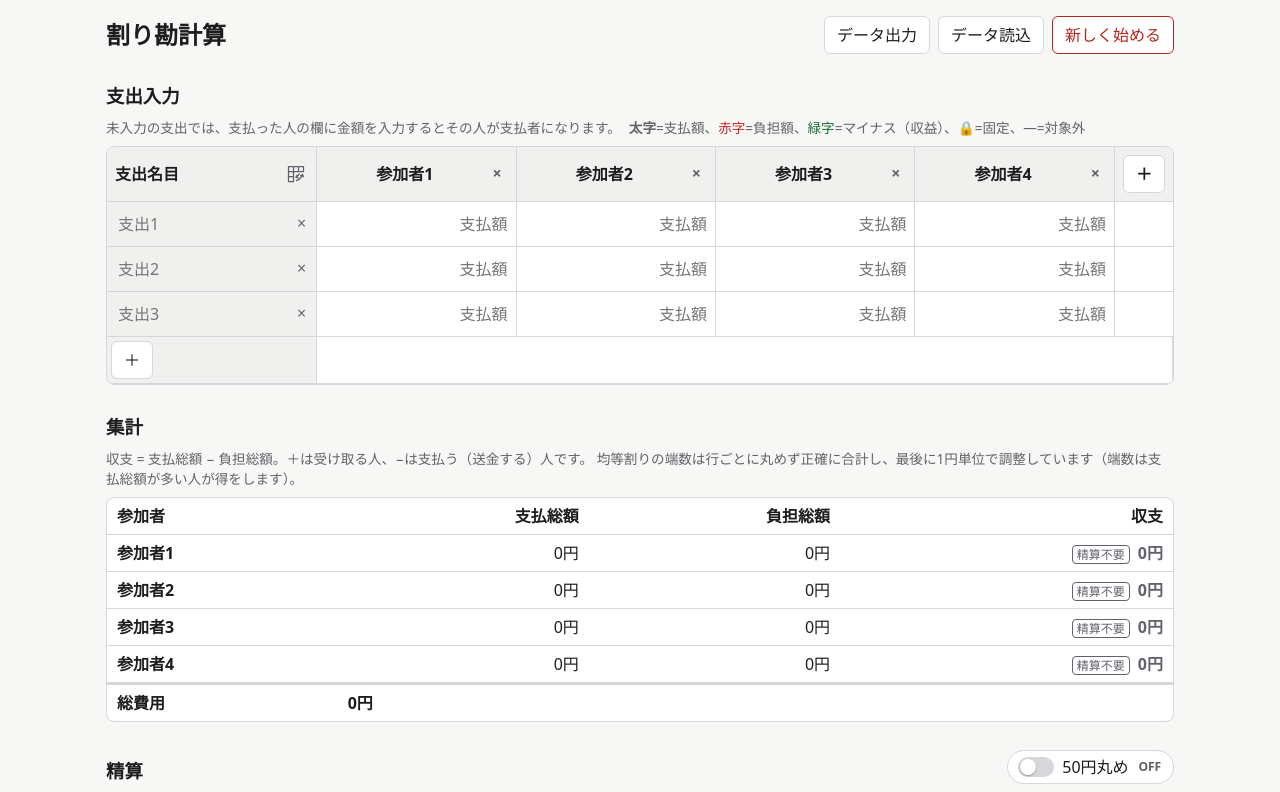
Test: App › 参加者追加（既定は既存支出を対象外）と支払者の削除拒否
Type "4000" into the 1st field with placeholder "支払額" at (416, 224), box [317,202,516,246]
Then press Enter
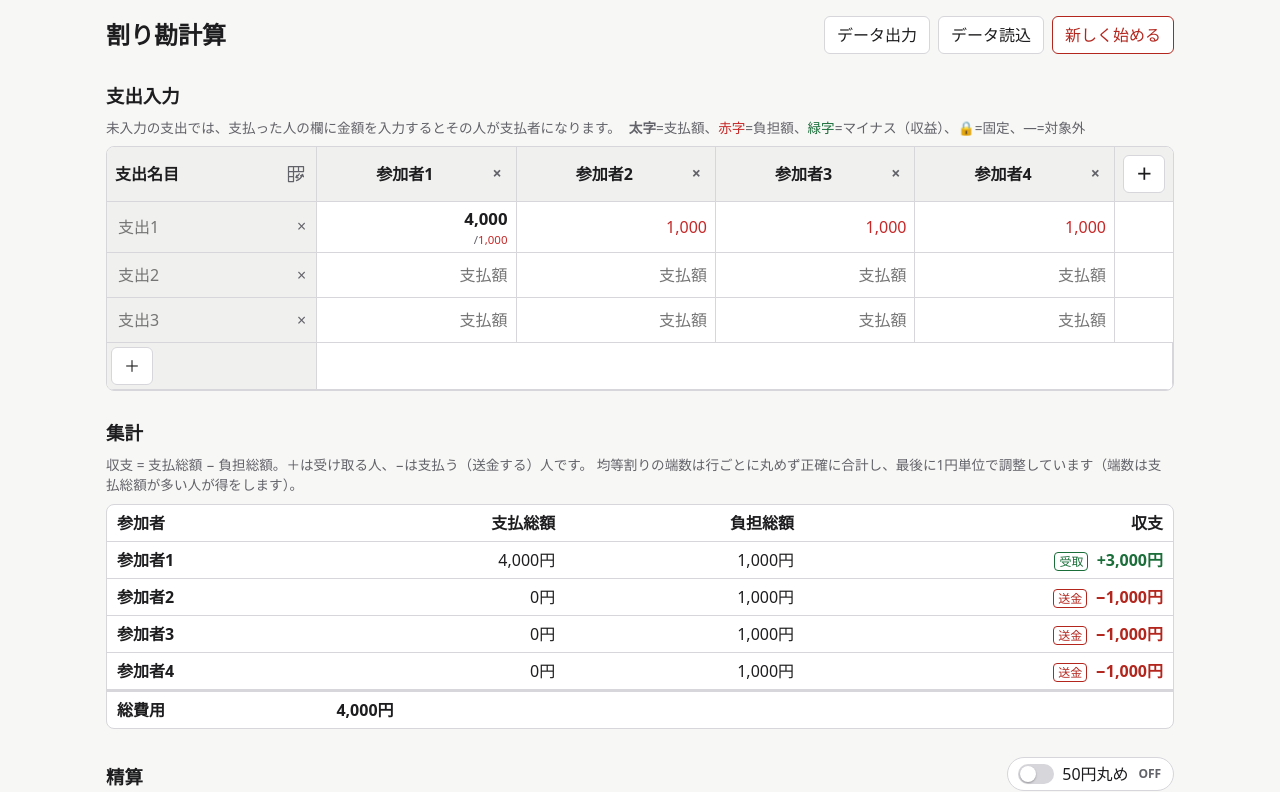
Click the button named "参加者を追加" at (1144, 174), box [1123,155,1165,193]
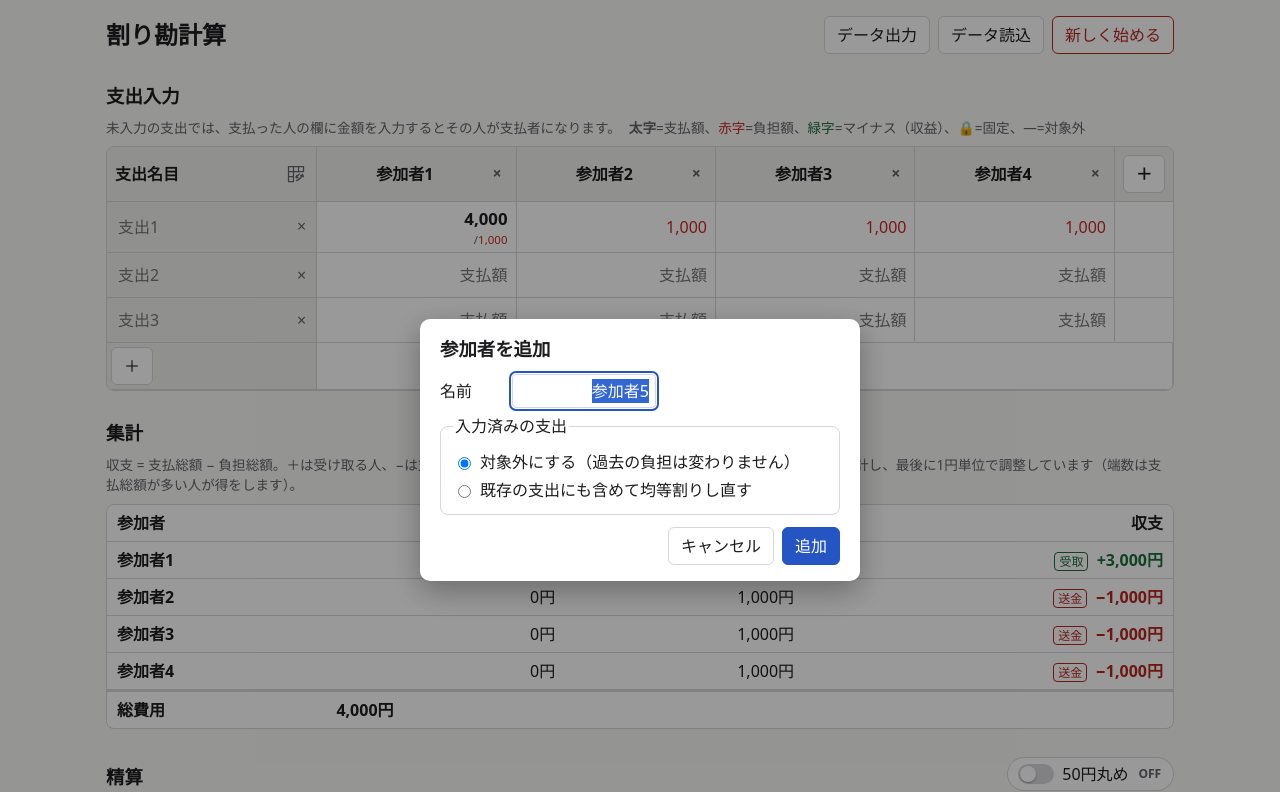
Click the button "追加" at (811, 546), box [782,527,840,565]
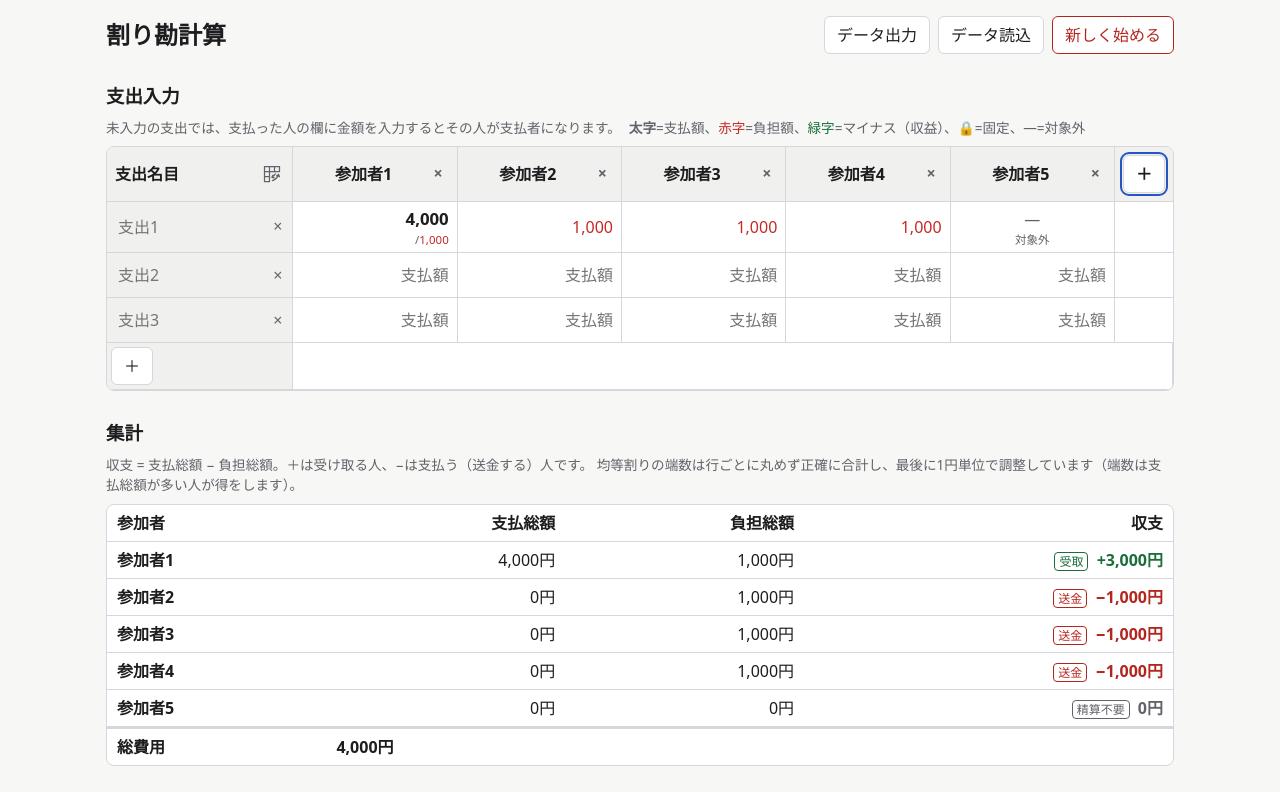
Now the number of fields named "参加者1の名前" is 5, box [301,157,426,191]; [466,157,590,191]; [630,157,754,191]; [794,157,918,191]; [959,157,1083,191]
Now the button with aria-label "支出1 の 参加者5：対象外" is shown, box [951,203,1114,252]
Click the button named "参加者1 を削除" at (438, 174), box [428,161,449,187]
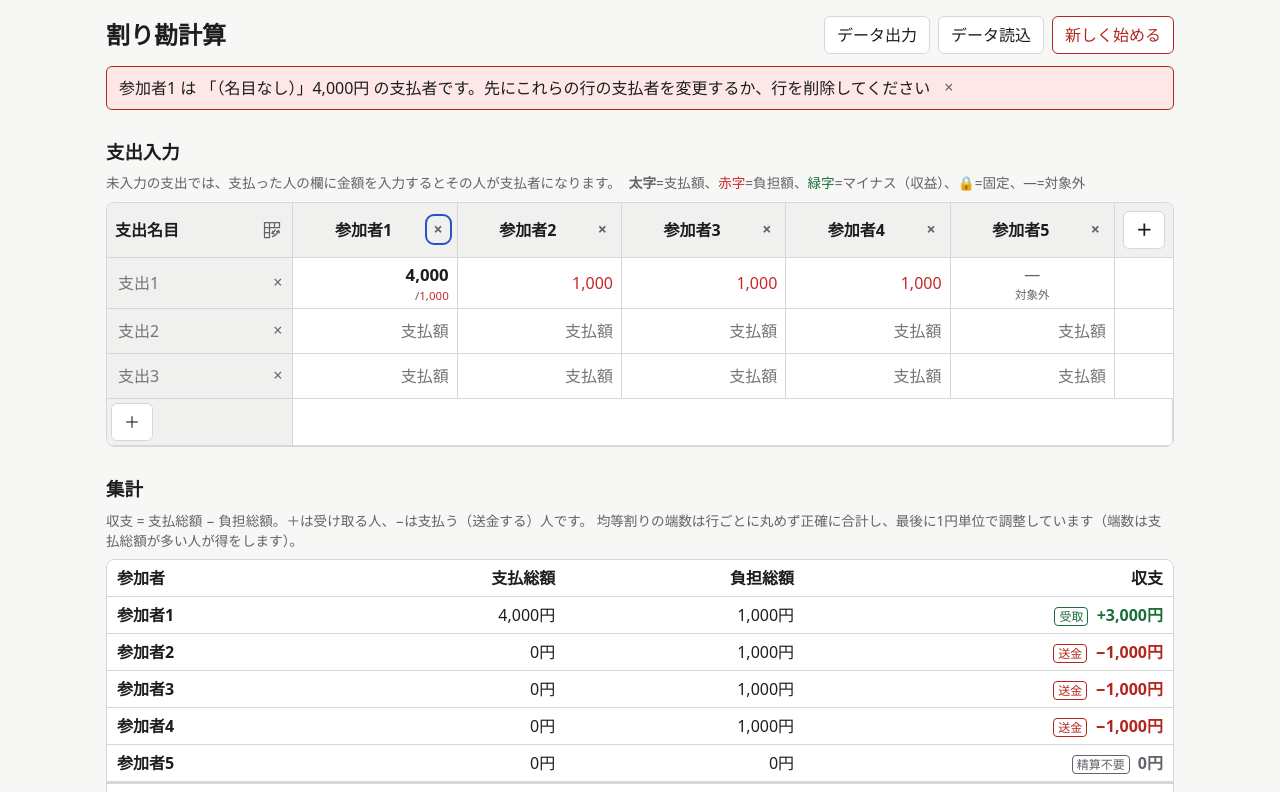
Now the number of fields named "参加者1の名前" is 5, box [301,213,426,247]; [466,213,590,247]; [630,213,754,247]; [794,213,918,247]; [959,213,1083,247]
Now the message shows "支払者です", box [119,77,930,99]
